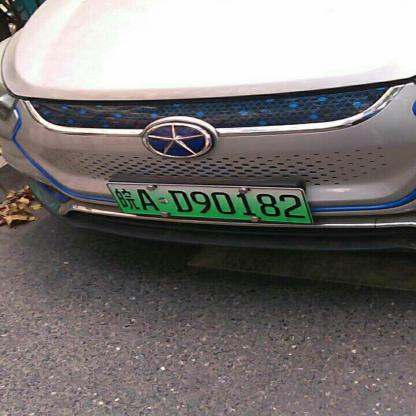lp: (105, 181, 314, 223)
